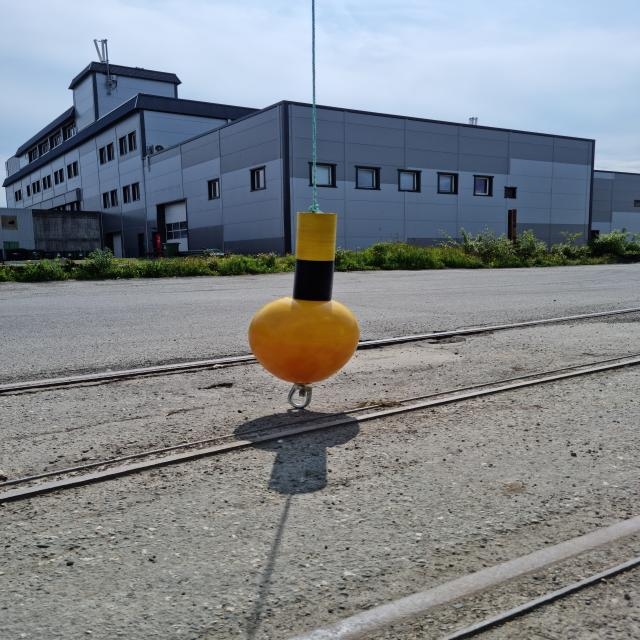west: (246, 213, 361, 382)
